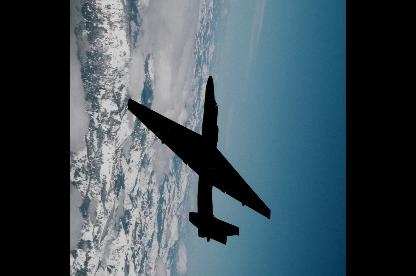Tu160: (127, 76, 271, 244)
